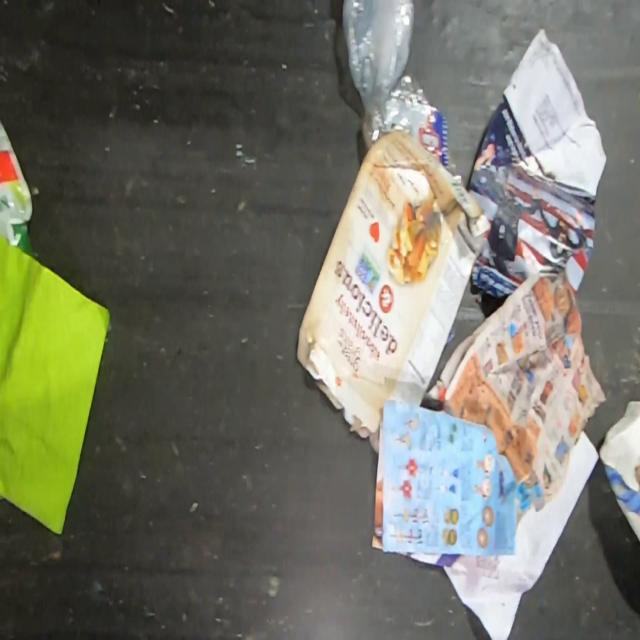cardboard: (296, 127, 491, 438)
rigid_plastic: (342, 0, 430, 149)
soft_plastic: (0, 116, 37, 262)
